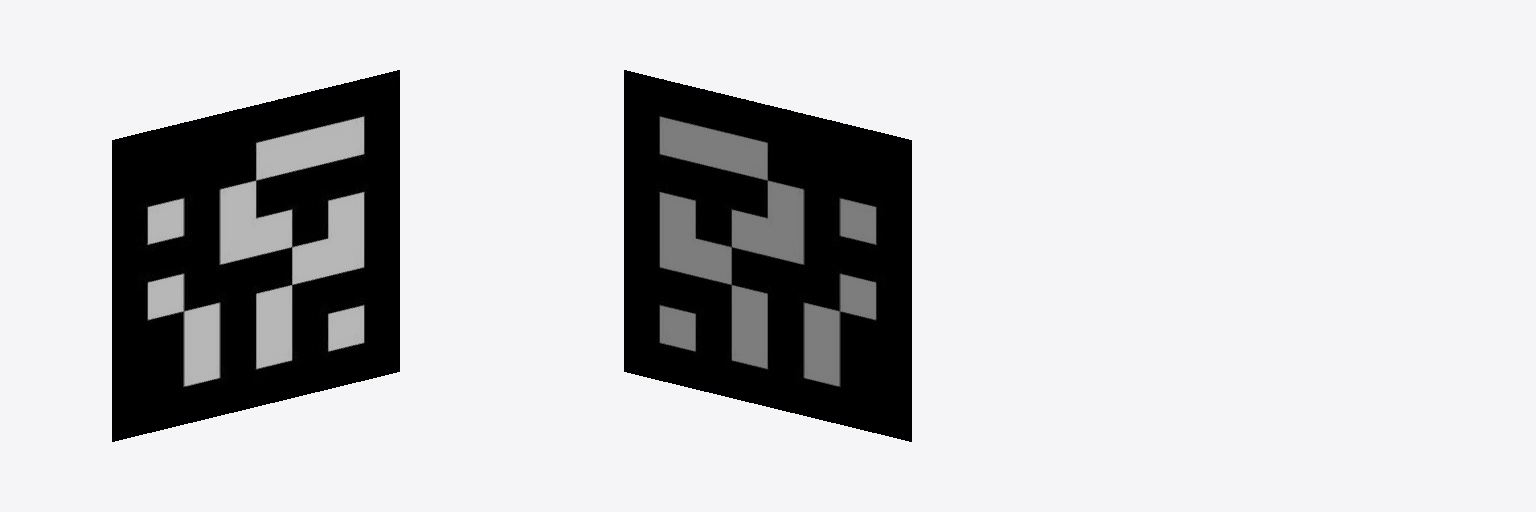
The picture shows the model from 3 angles: view 1: azimuth 30°, elevation 25°; view 2: azimuth 150°, elevation 25°; view 3: azimuth 270°, elevation 25°; orthographic projection.
Visible parts, largest first — view 1: FlatBox; view 2: FlatBox; view 3: none.
Boxes of the visible parts, <box> form: FlatBox: <box>112,70,399,441</box>; FlatBox: <box>624,70,911,441</box>.
Size of the model in its own units: 1 by 1 by 0.001.
1 materials, 1 textured.